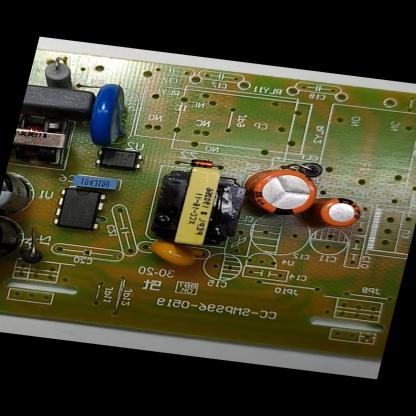Cap1: (237, 162, 330, 224)
Cap2: (308, 191, 374, 232)
Cap3: (0, 168, 37, 223)
Cap4: (0, 213, 42, 272)
MOSFET: (43, 180, 113, 238)
Mov: (77, 76, 136, 153)
Resistor: (27, 55, 88, 95)
Transformer: (132, 152, 262, 254), (7, 107, 89, 176)
